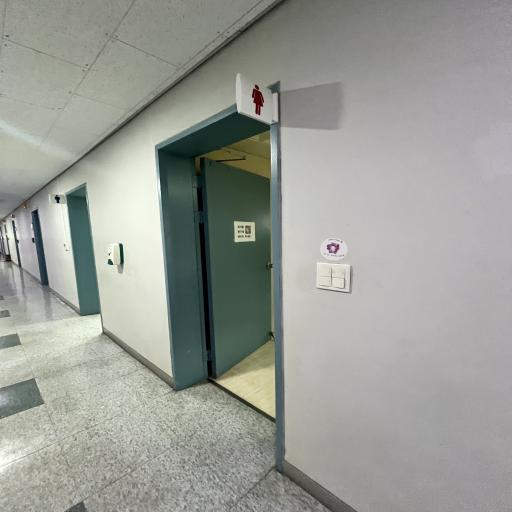door: (153, 79, 280, 476)
